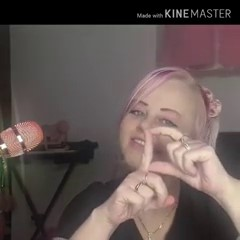D: (109, 121, 225, 220)
